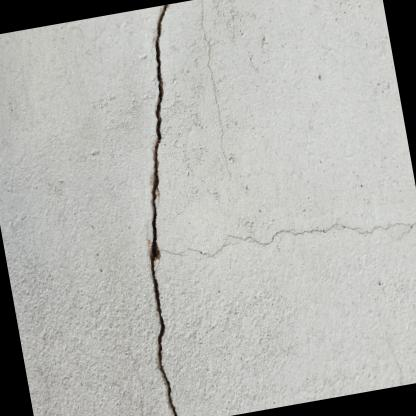crack: (149, 4, 178, 416)
